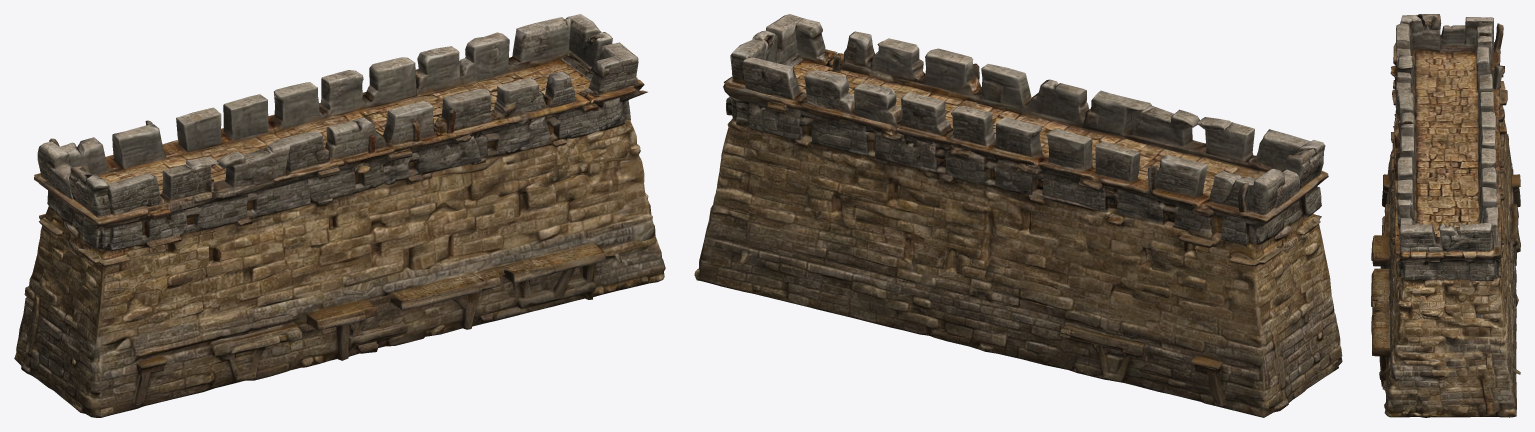
Rendered from wall-mid.glb.
3 views of the same model, side by side, from view 1: azimuth 30°, elevation 25°; view 2: azimuth 150°, elevation 25°; view 3: azimuth 270°, elevation 25° (orthographic). The views are drawn at different scales.
Size of the model in its own units: 0.9995 by 0.3706 by 0.276.
Materials: 1 (1 with a texture image).
